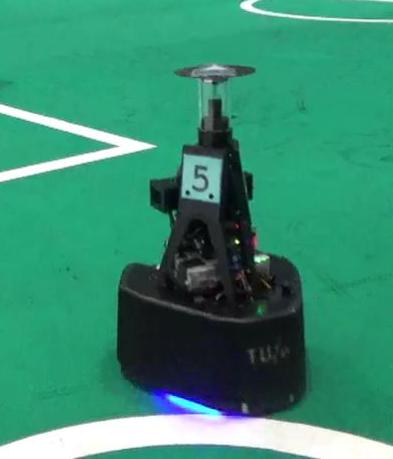robot: (111, 60, 319, 420)
